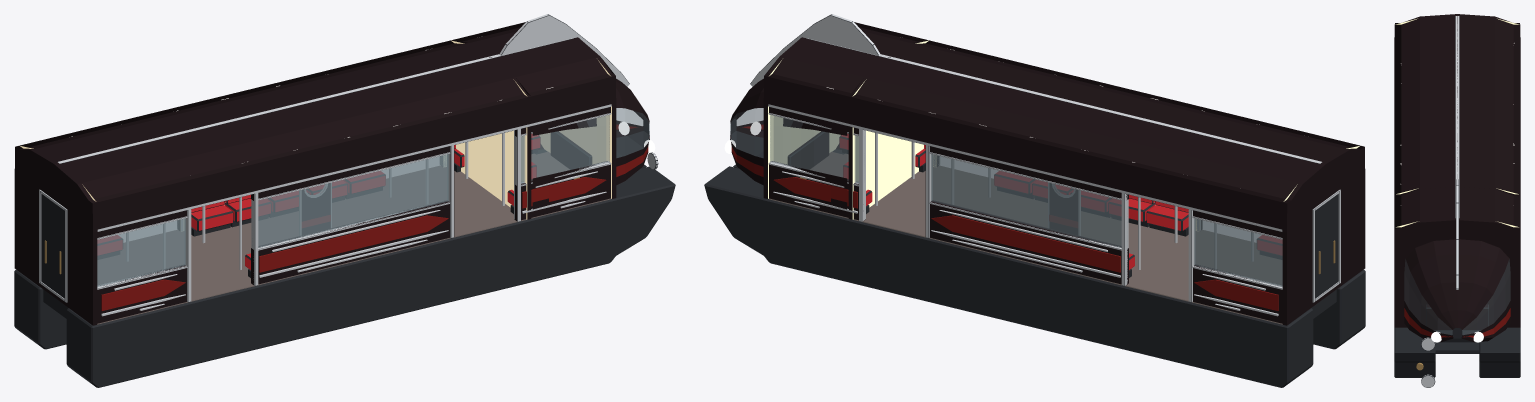
Rendered from monorail_cars.917d6d2e.glb.
3 views of the same model, side by side, from view 1: azimuth 30°, elevation 25°; view 2: azimuth 150°, elevation 25°; view 3: azimuth 270°, elevation 25° (orthographic). The views are drawn at different scales.
Parts seen in each view (by area): view 1: car_mid, car_end, door; view 2: car_mid, car_end, door; view 3: car_end, car_mid.
Boxes of the visible parts, left/top/right/bottom form: car_mid: left=14, top=22, right=616, bottom=387; car_end: left=14, top=14, right=675, bottom=383; door: left=299, top=183, right=331, bottom=235; car_mid: left=763, top=22, right=1365, bottom=387; car_end: left=704, top=14, right=1365, bottom=383; door: left=1048, top=183, right=1080, bottom=235; car_end: left=1394, top=14, right=1520, bottom=387; car_mid: left=1394, top=18, right=1520, bottom=328.
Size of what is drawn, in the model's own units: 14 by 5.1 by 3.2.
